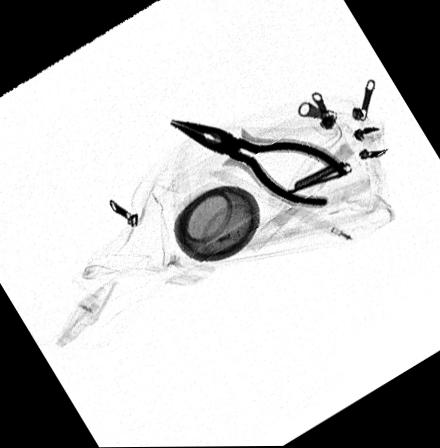Pliers: (167, 118, 348, 210)
